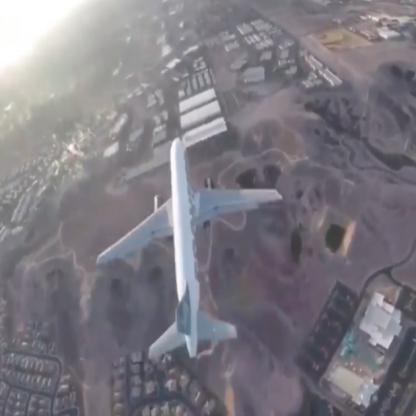CIV_Plane: (93, 129, 286, 366)
